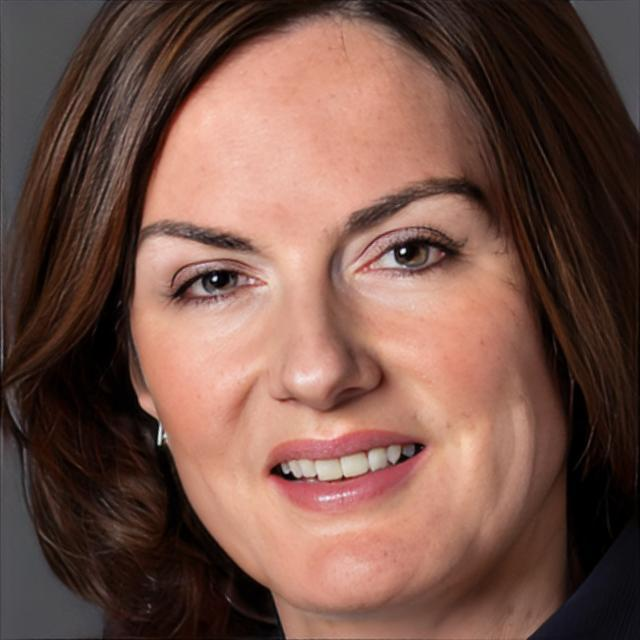disgust: (121, 1, 568, 618)
